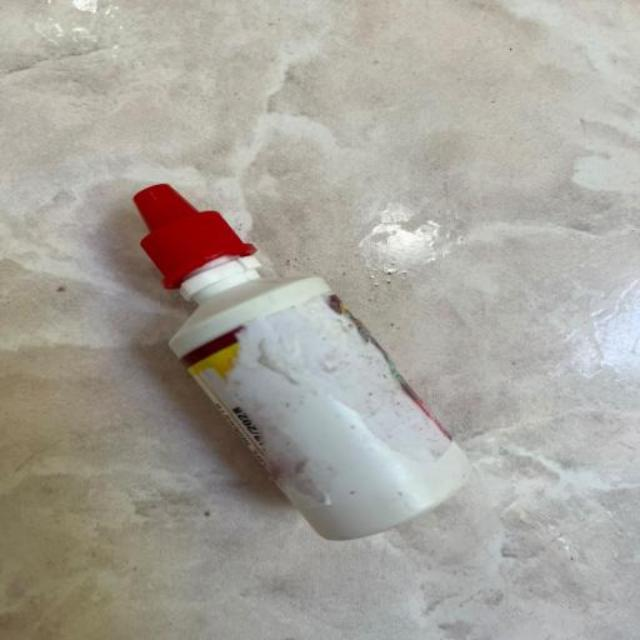HDPE: (90, 148, 570, 612)
